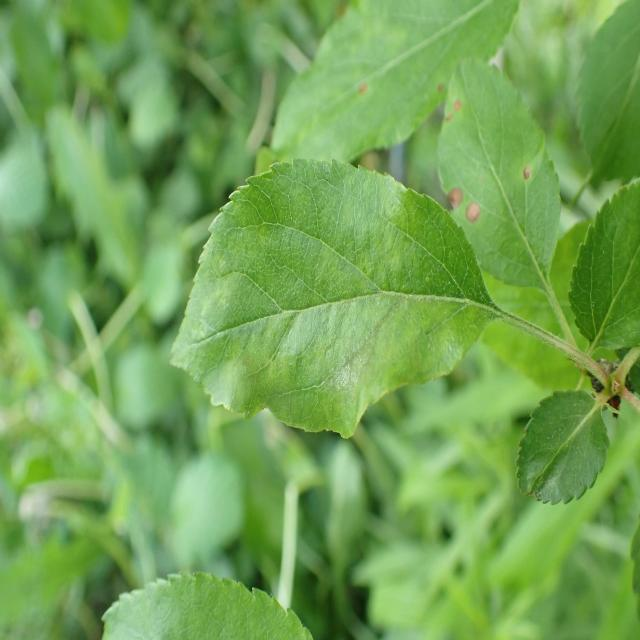Black Rot: (463, 193, 486, 234), (440, 180, 468, 213), (518, 158, 534, 184)
scab: (194, 199, 401, 410)
